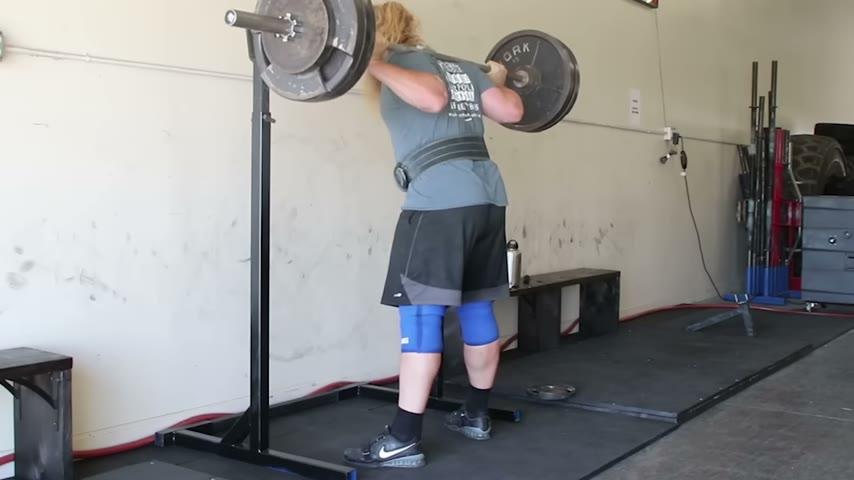barbell_plate_side: (482, 14, 582, 132)
